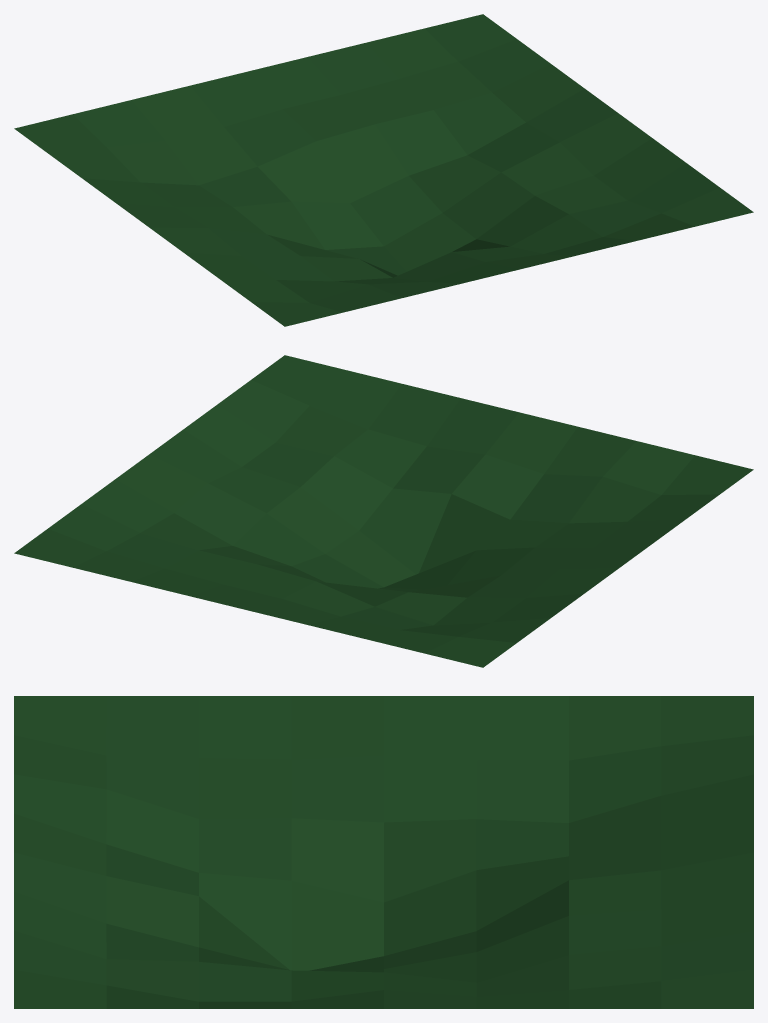
The model's file is Terrain_8_Dark_Green.fbx.
3 renders of one model, top to bottom at view 1: azimuth 30°, elevation 25°; view 2: azimuth 150°, elevation 25°; view 3: azimuth 270°, elevation 25°, orthographic. The views are drawn at different scales.
Visible parts, largest first — view 1: Terrain_8_Dark_Green; view 2: Terrain_8_Dark_Green; view 3: Terrain_8_Dark_Green.
Boxes of the visible parts, x1,y1,x2,y2 form: Terrain_8_Dark_Green: (14, 14, 753, 326); Terrain_8_Dark_Green: (14, 355, 753, 667); Terrain_8_Dark_Green: (14, 696, 753, 1008).
Bounding box in the file's own units: 4000 × 726 × 4000.
